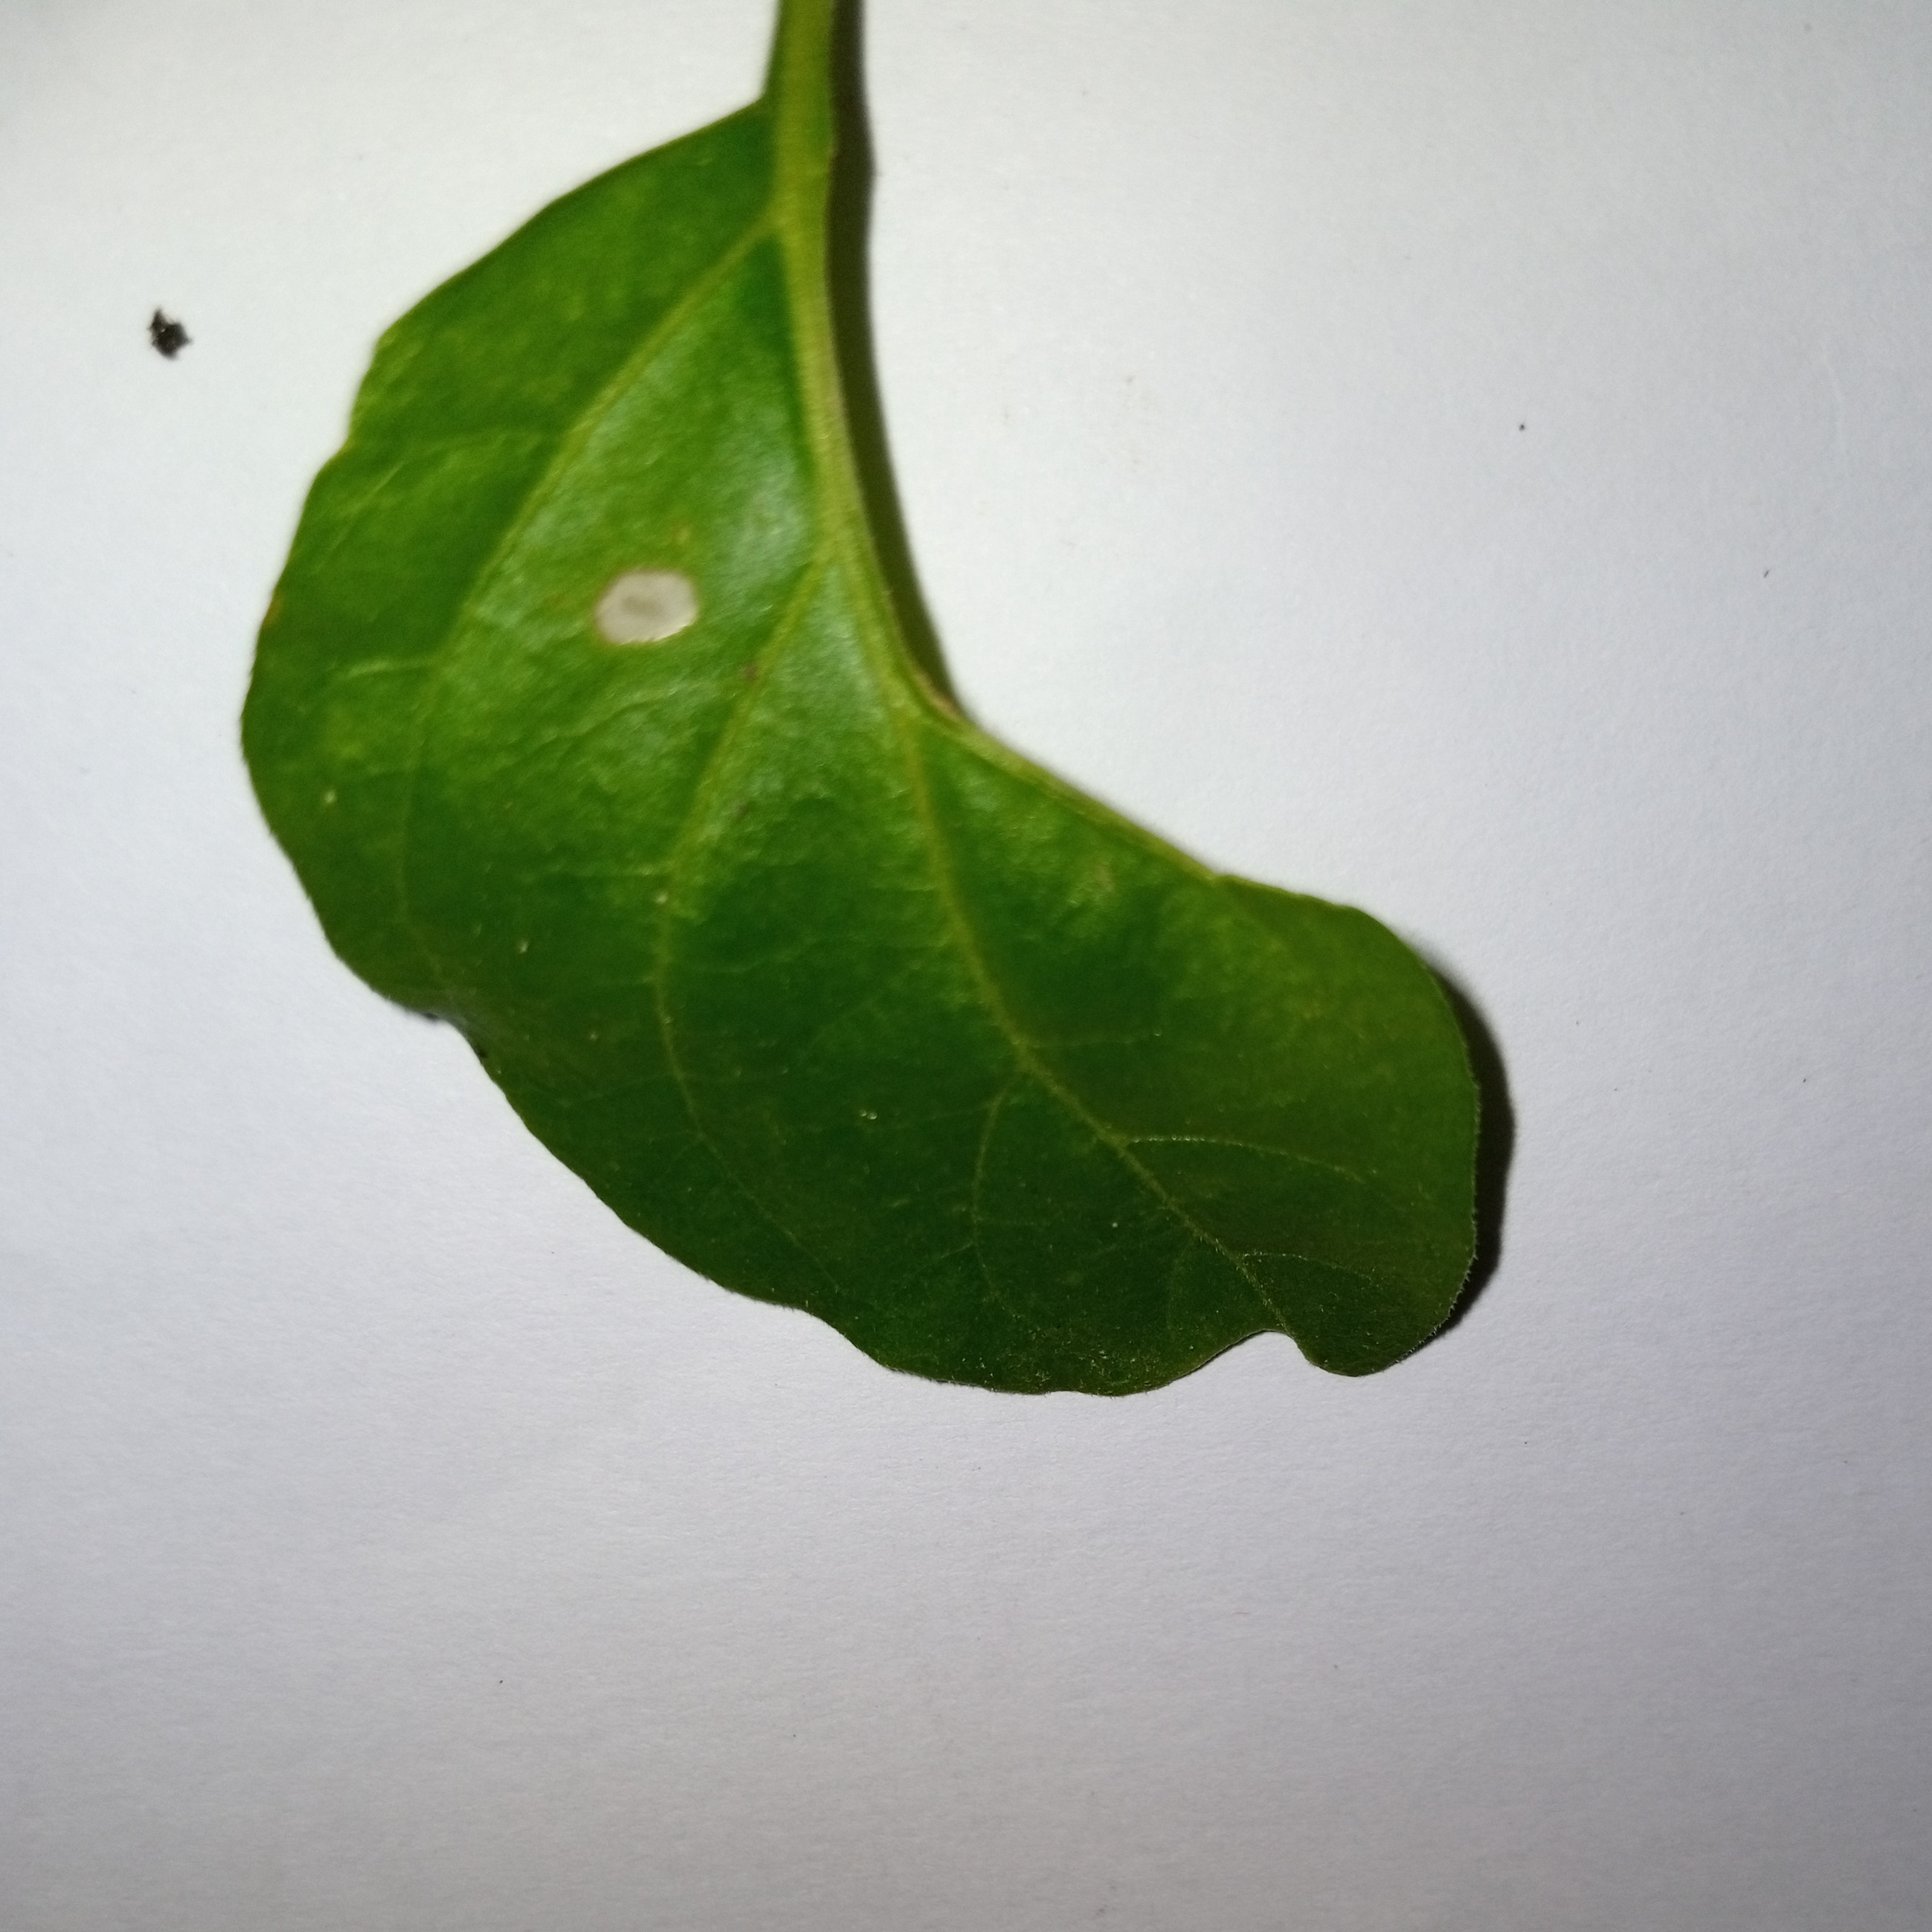Leaf: (96, 115, 1743, 1603)
